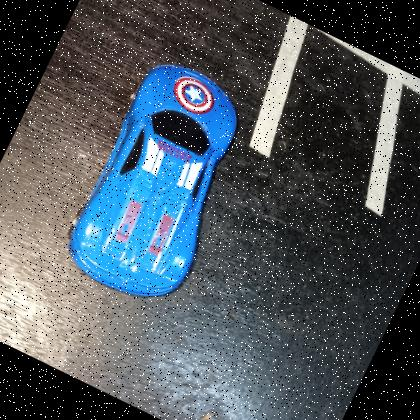Car: (66, 64, 236, 298)
